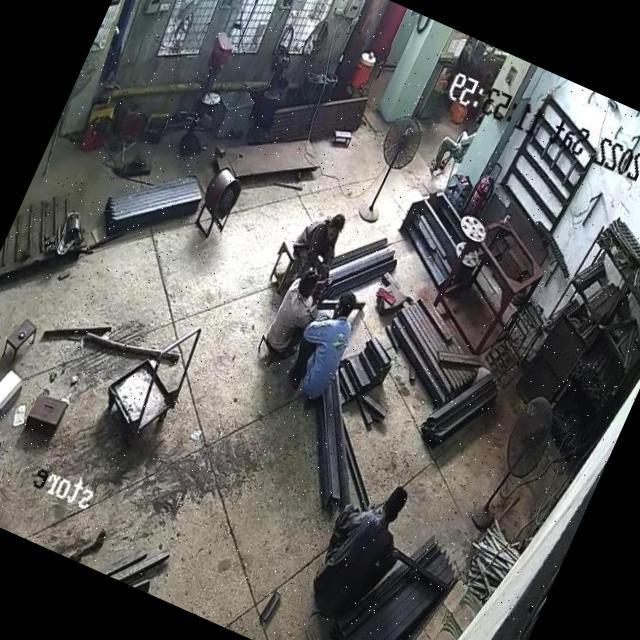person: (298, 462, 423, 628), (279, 280, 372, 404), (256, 259, 334, 365), (277, 196, 354, 291), (422, 108, 488, 186)
